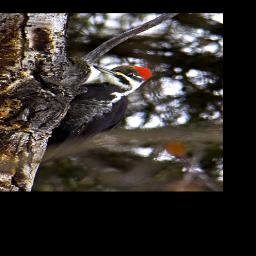Woodpecker: (48, 63, 157, 150)
